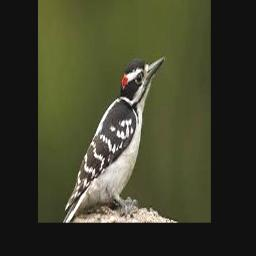Woodpecker: (62, 55, 165, 223)
